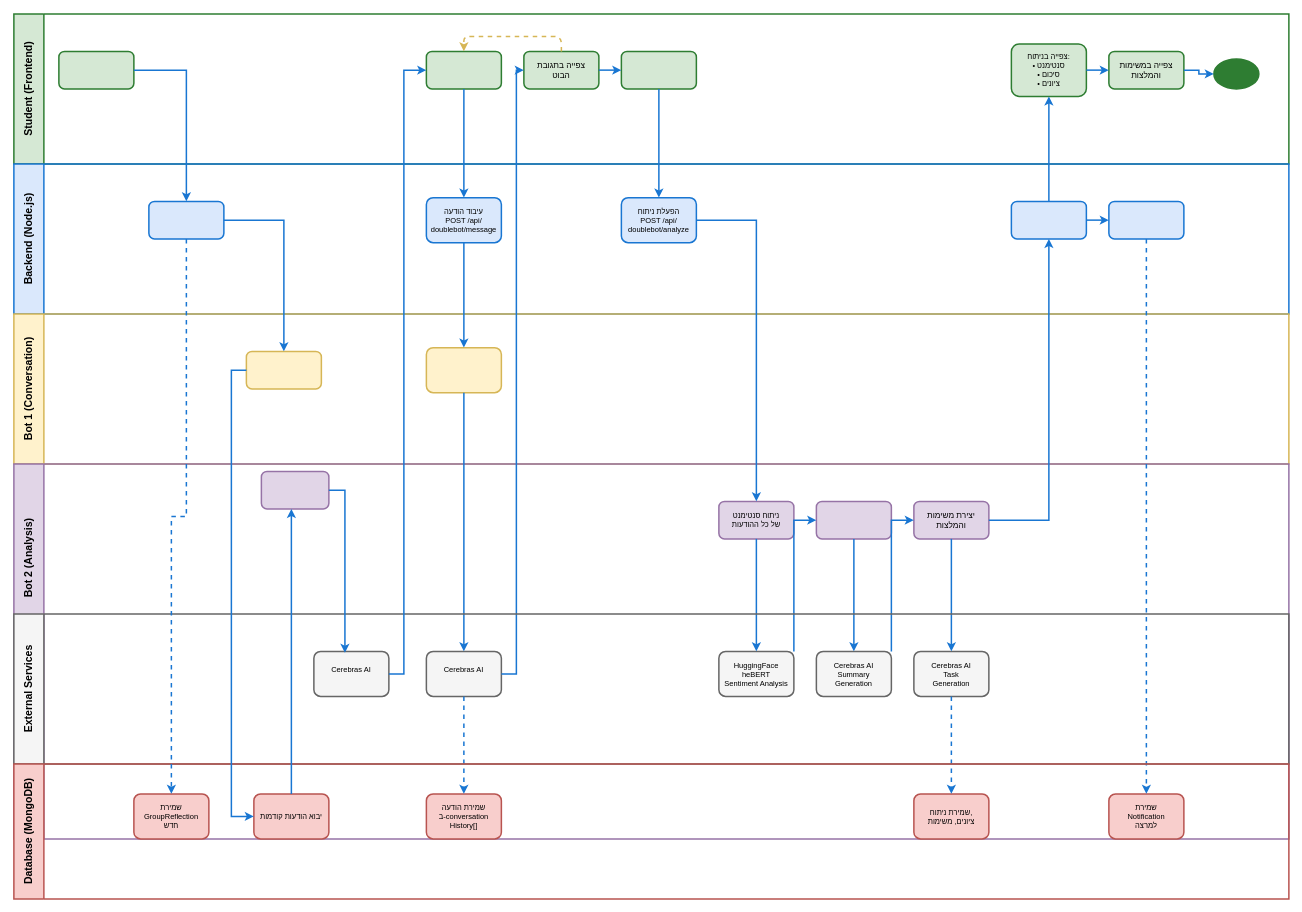
The diagram is 1302 pixels wide and 912 high, and some of its shapes have lost their labels. The centre of each missing label's shape, as x and y in pixels:
"הכנת תוצאות לתצוגה" goes at pixel 1048 219.
"התחל רפלקציה קבוצתית" goes at pixel 96 69.
"יצירת Session חדש" goes at pixel 186 219.
"יצירת הודעת פתיחה" goes at pixel 283 369.
"יצירת סיכום ותובנות" goes at pixel 853 519.
"ניתוח הודעה ויצירת תגובה רלוונטית" goes at pixel 463 369.
"ניתוח הודעות קודמות ומתן הוראות לשיחה" goes at pixel 294 489.
"סיום" goes at pixel 1236 73.
"סיום שיחה (לחיצה על כפתור)" goes at pixel 658 69.
"שליחת הודעה לבוט" goes at pixel 463 69.
"שליחת התראה למרצה" goes at pixel 1146 219.
